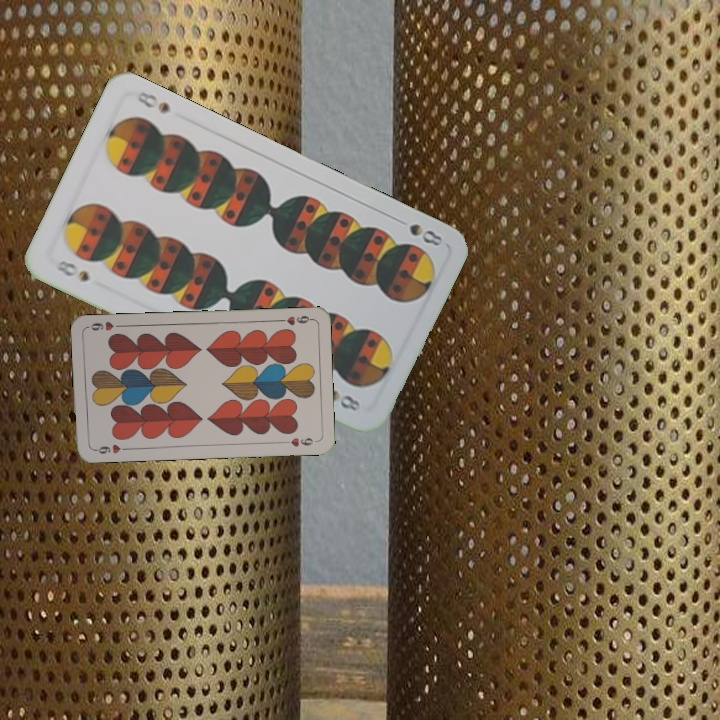H9: (274, 311, 314, 328), (90, 440, 130, 457)
S8: (390, 213, 448, 249), (51, 255, 92, 285)
